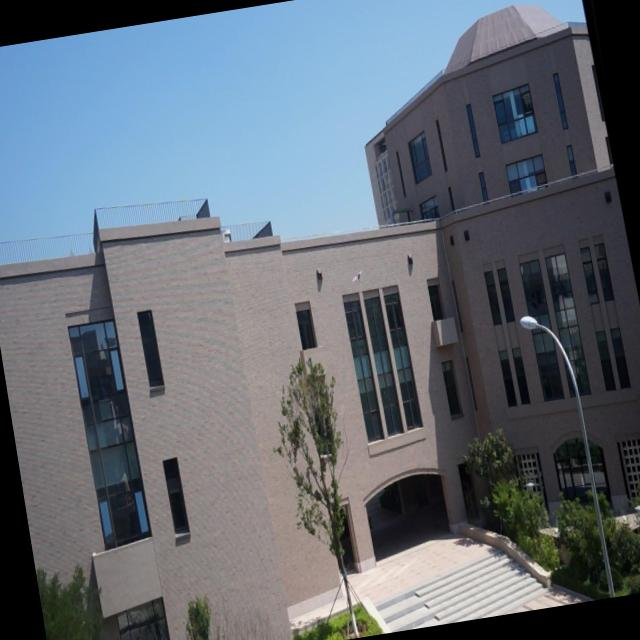drone: (349, 266, 366, 288)
